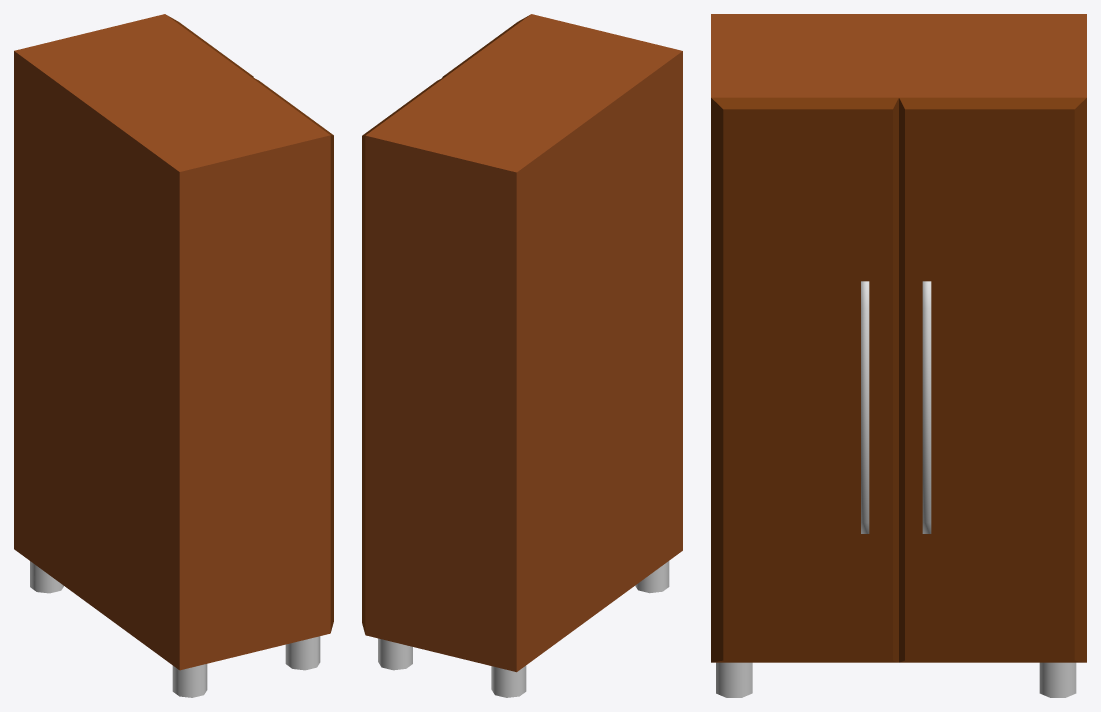
The model's file is шкаф.fbx.
3 renders of one model, left to right at view 1: azimuth 30°, elevation 25°; view 2: azimuth 150°, elevation 25°; view 3: azimuth 270°, elevation 25°, orthographic. The views are drawn at different scales.
Parts seen in each view (by area): view 1: шкаф.002; view 2: шкаф.002; view 3: шкаф.002.
Boxes of the visible parts, box(x1,y1,x2,y2) form: шкаф.002: box(14, 14, 333, 697); шкаф.002: box(362, 14, 682, 697); шкаф.002: box(711, 14, 1086, 697).
Bounding box in the file's own units: 56.77 × 166 × 93.64.
